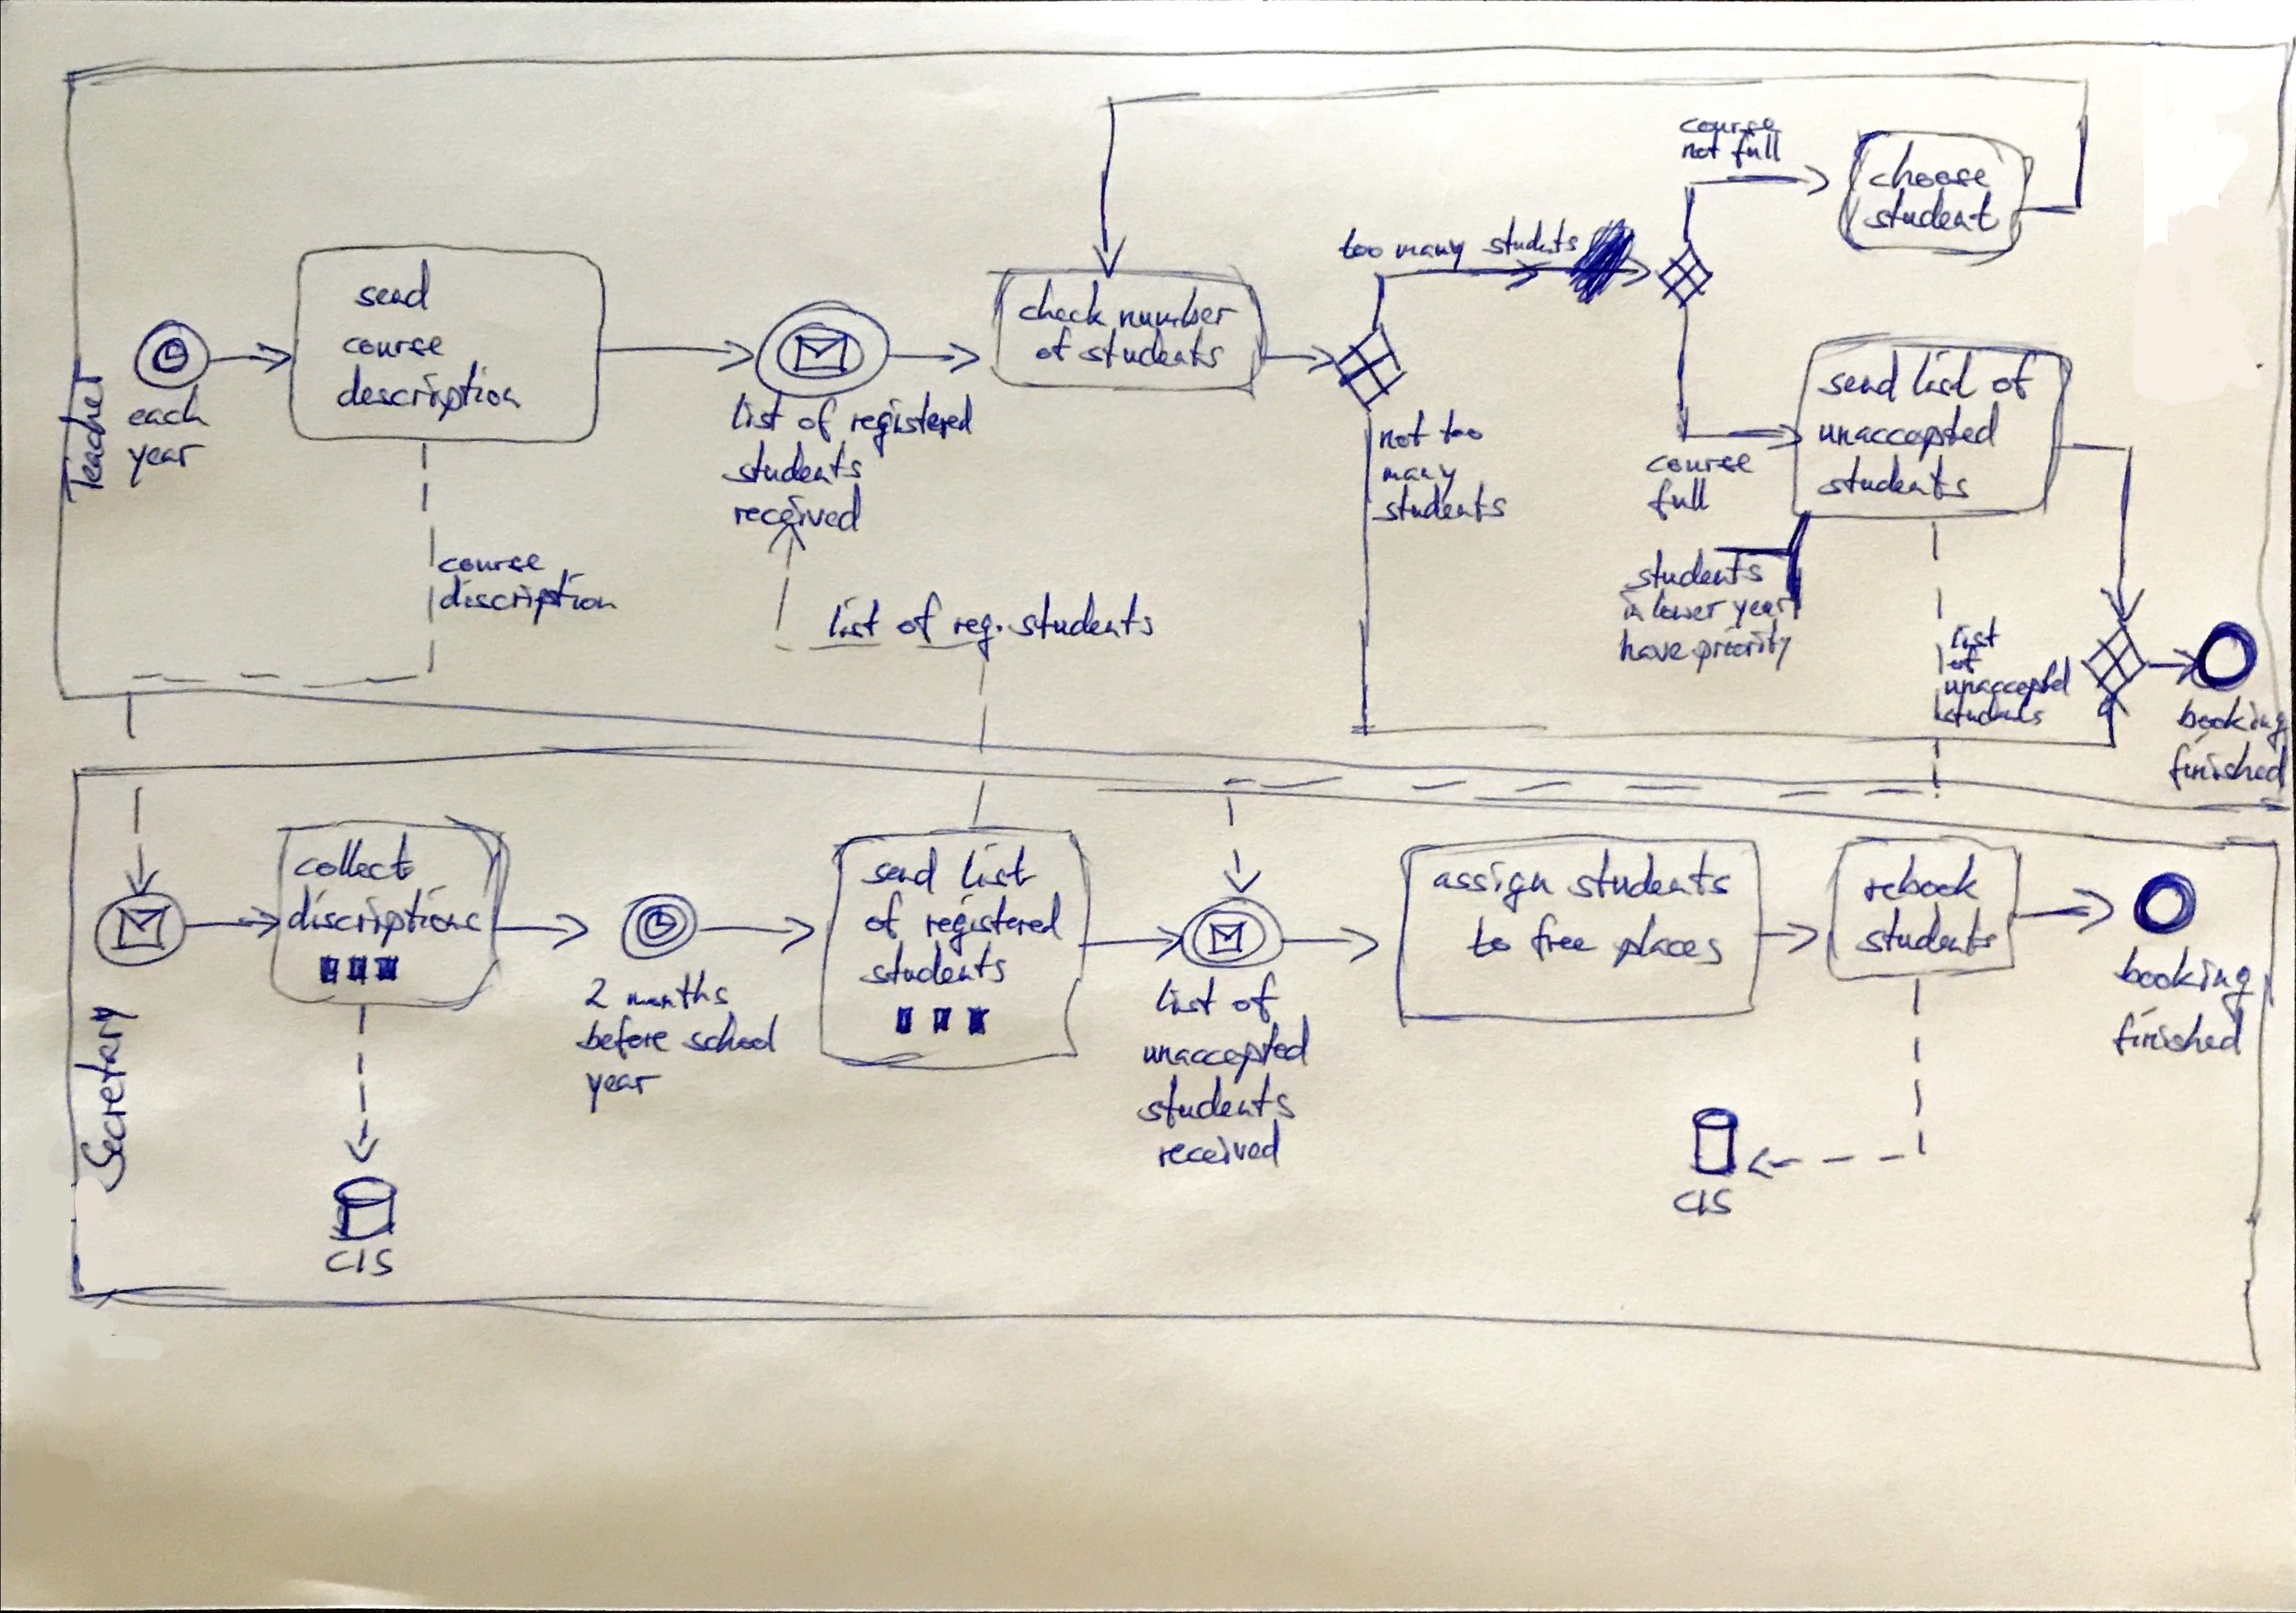2: (583, 975, 610, 1012)
CIS: (324, 1244, 394, 1278), (1669, 1185, 1732, 1218)
III: (892, 1002, 991, 1037), (317, 952, 400, 986)
Secretary: (71, 1005, 156, 1195)
Teacher: (58, 354, 111, 501)
assign: (1430, 859, 1555, 915)
before: (576, 1016, 672, 1059)
booking: (2118, 939, 2262, 996), (2173, 700, 2289, 750)
check: (1019, 280, 1107, 328)
choose: (1868, 141, 1990, 188)
collect: (294, 833, 413, 879)
course: (435, 546, 546, 577), (344, 330, 445, 360), (1646, 451, 1754, 476), (1678, 116, 1783, 136)
description: (338, 361, 526, 418)
discription: (438, 571, 624, 621)
discriptions: (287, 881, 485, 950)
each: (124, 384, 212, 430)
finished: (2110, 1008, 2247, 1059), (2167, 733, 2289, 790)
free: (1517, 913, 1601, 964)
full: (1648, 475, 1713, 522), (1731, 133, 1785, 169)
have: (1617, 630, 1686, 669)
in: (1619, 589, 1646, 625)
list: (958, 840, 1037, 893), (1904, 350, 1983, 399), (1151, 976, 1223, 1021), (728, 387, 790, 436), (824, 598, 885, 640), (1949, 616, 2003, 648)
lower: (1648, 587, 1729, 622)
many: (1378, 463, 1462, 498), (1394, 235, 1468, 270)
months: (625, 969, 729, 1010)
not: (1377, 410, 1430, 453), (1679, 132, 1723, 160)
number: (1119, 286, 1238, 328)
of: (1232, 971, 1283, 1024), (895, 592, 943, 646), (860, 890, 909, 943), (1991, 351, 2038, 398), (799, 394, 840, 443), (1031, 326, 1074, 363), (1947, 648, 1983, 677)
places: (1607, 914, 1725, 968)
priority: (1693, 623, 1794, 673)
rebook: (1857, 854, 1982, 902)
received: (732, 486, 868, 532), (1151, 1137, 1281, 1185)
reg.: (954, 613, 1003, 660)
registered: (922, 894, 1076, 955), (850, 392, 974, 457)
school: (679, 1010, 777, 1053)
send: (1817, 349, 1900, 403), (355, 259, 433, 310), (864, 847, 942, 892)
student: (1864, 188, 2002, 233)
students: (1567, 848, 1731, 903), (1134, 1073, 1298, 1123), (855, 940, 1011, 990), (1853, 904, 1997, 957), (1011, 592, 1156, 639), (1816, 455, 1969, 500), (1079, 330, 1232, 374), (722, 439, 863, 483), (1374, 481, 1509, 524), (1627, 551, 1762, 589), (1482, 217, 1581, 258), (1937, 695, 2047, 729)
to: (1463, 914, 1513, 964)
too: (1440, 408, 1484, 446), (1338, 228, 1383, 263)
unaccepted: (1140, 1016, 1311, 1083), (1817, 402, 2000, 459), (1939, 670, 2067, 706)
year: (126, 443, 209, 487), (581, 1075, 666, 1112), (1731, 591, 1800, 627)
